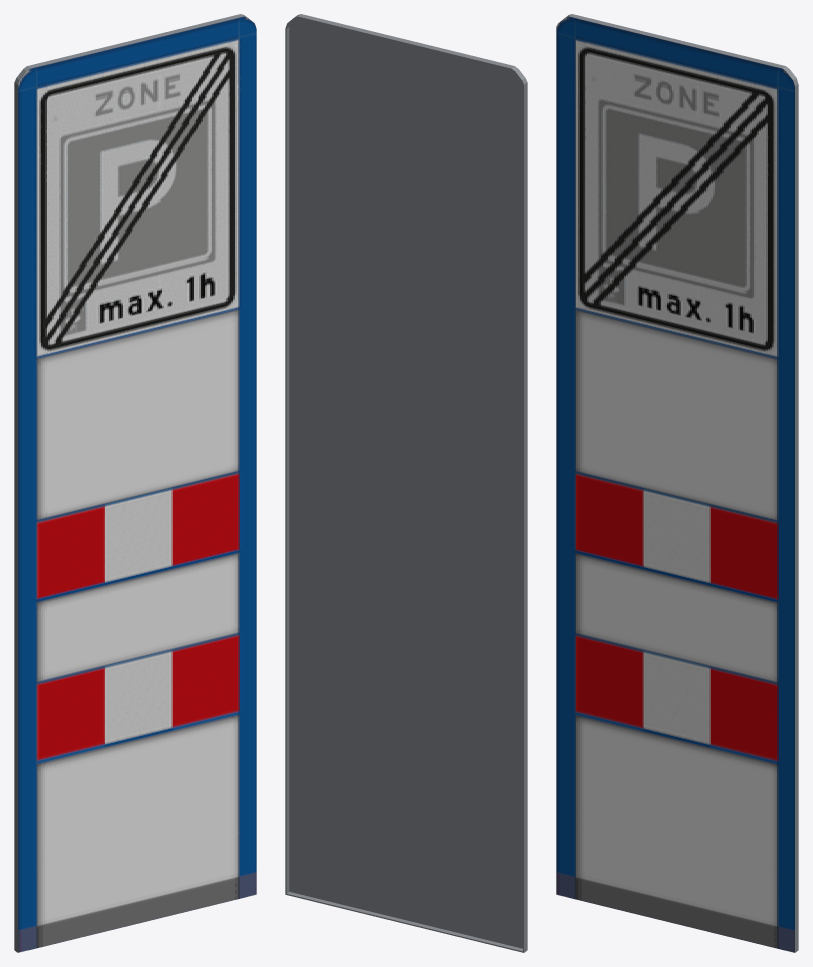
3 views of the same model, side by side, from view 1: azimuth 30°, elevation 25°; view 2: azimuth 150°, elevation 25°; view 3: azimuth 330°, elevation 25° (orthographic).
Parts seen in each view (by area): view 1: cat_01734076ac8ba6b8; view 2: cat_01734076ac8ba6b8; view 3: cat_01734076ac8ba6b8.
Boxes of the visible parts, x1,y1,x2,y2 form: cat_01734076ac8ba6b8: [14, 14, 256, 952]; cat_01734076ac8ba6b8: [285, 14, 527, 952]; cat_01734076ac8ba6b8: [556, 14, 798, 952].
Bounding box in the file's own units: 0.6 × 0.015 × 2.12.
Materials: 2 (1 with a texture image).
